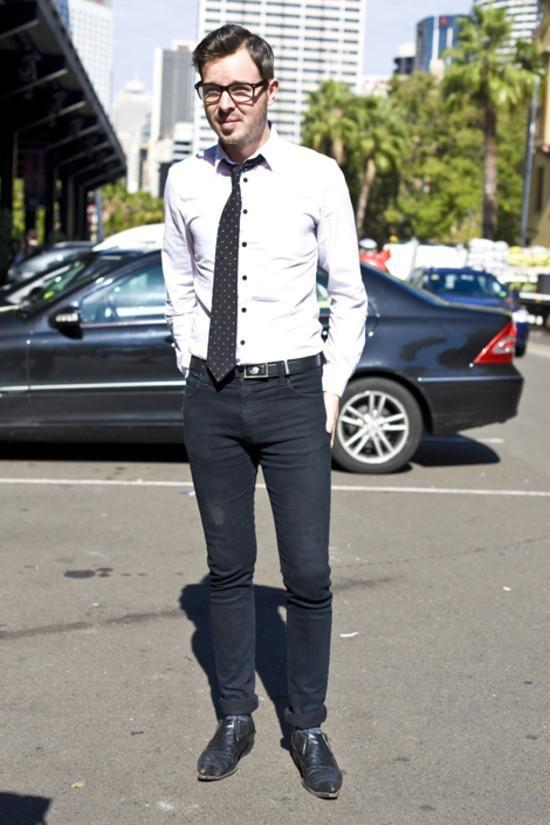pants: (182, 356, 334, 730)
shirt: (161, 120, 368, 398)
